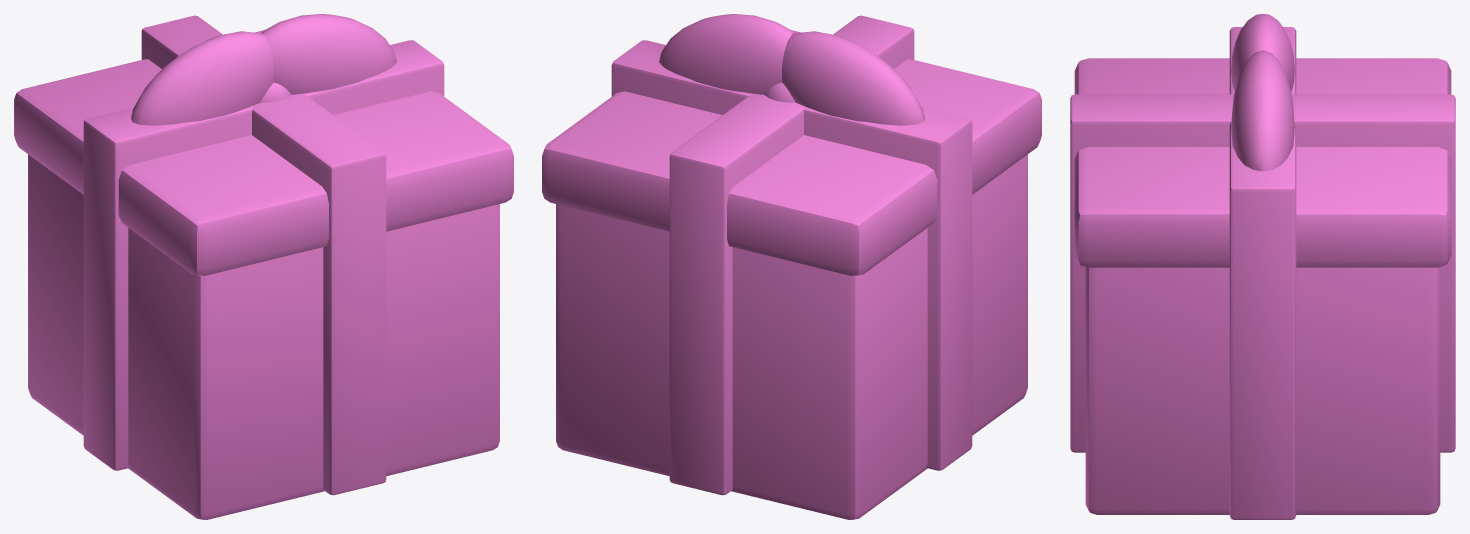
File: Parcel_Present.fbx
3 views of the same model, side by side, from view 1: azimuth 30°, elevation 25°; view 2: azimuth 150°, elevation 25°; view 3: azimuth 270°, elevation 25° (orthographic).
Visible parts, largest first — view 1: Parcel; view 2: Parcel; view 3: Parcel.
Boxes of the visible parts, x1=… form: Parcel: x1=14, y1=14, x2=513, y2=519; Parcel: x1=542, y1=14, x2=1041, y2=519; Parcel: x1=1070, y1=14, x2=1455, y2=519.
Bounding box in the file's own units: 1.74 × 2 × 1.74.
Materials: 1 (1 with a texture image).
